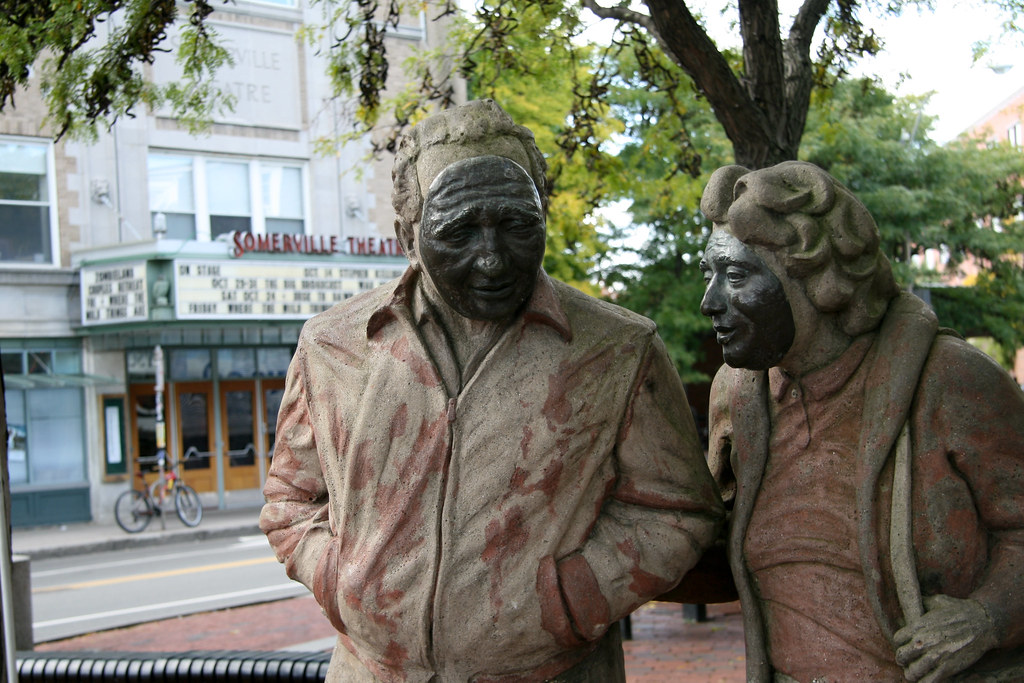person-like: (252, 95, 728, 683), (689, 155, 1024, 673)
